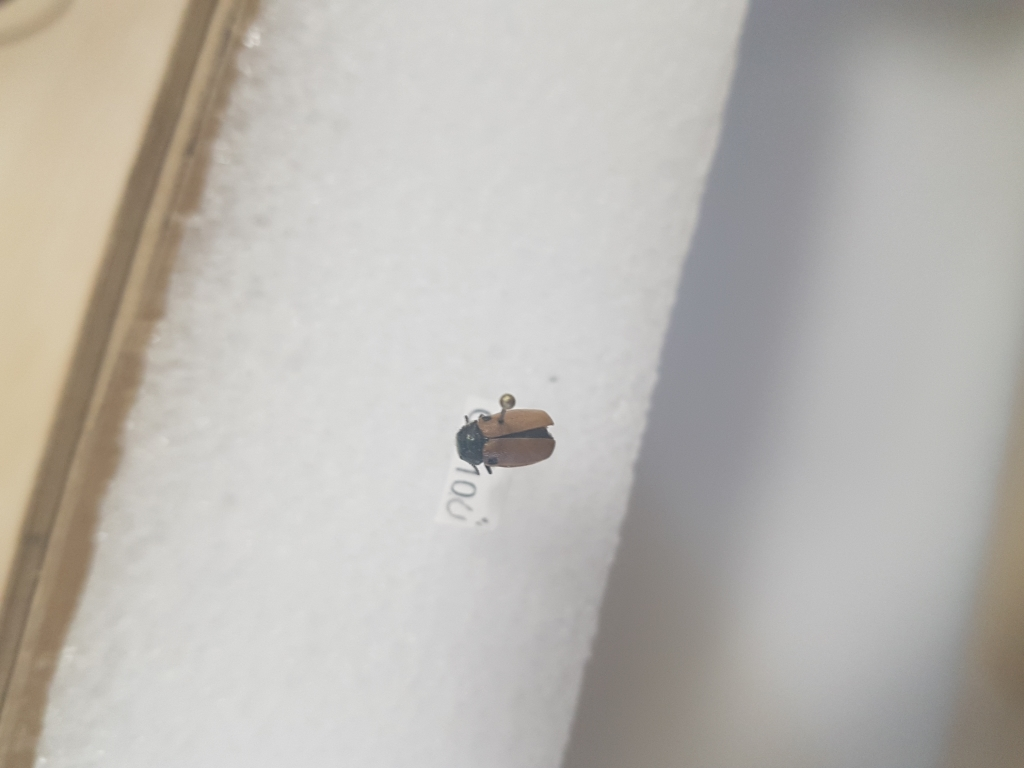Labidostomis_longimana: (454, 404, 561, 475)
